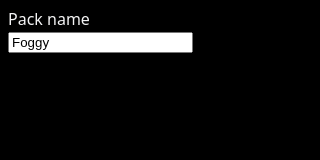
Test: TextField › uncontrolled: keeps its own value and reports changes
In the field labelled "Pack name": (100, 42) [8,32,193,53], type "!"
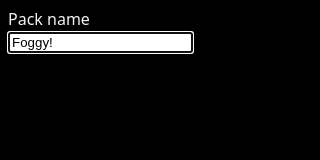
Expected: the field labelled "Pack name" holds "Foggy!", [8,32,193,53]
